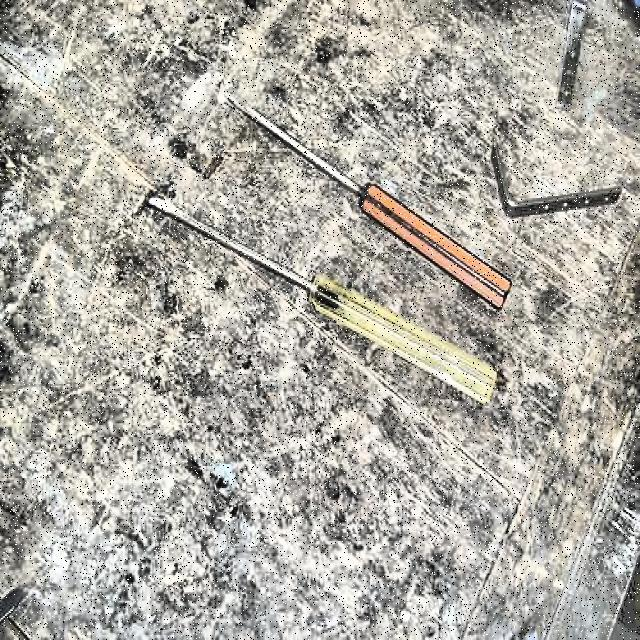screwdriver: (140, 192, 500, 406), (221, 88, 515, 310)
